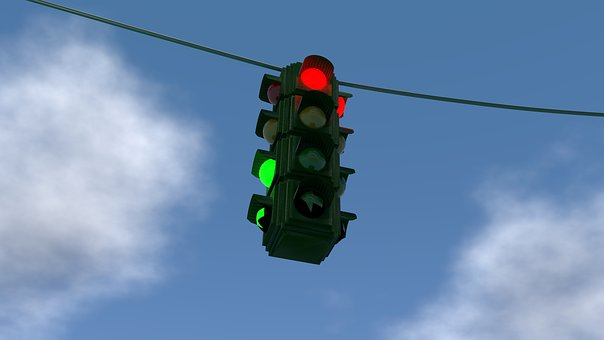trafic: (250, 53, 370, 261)
